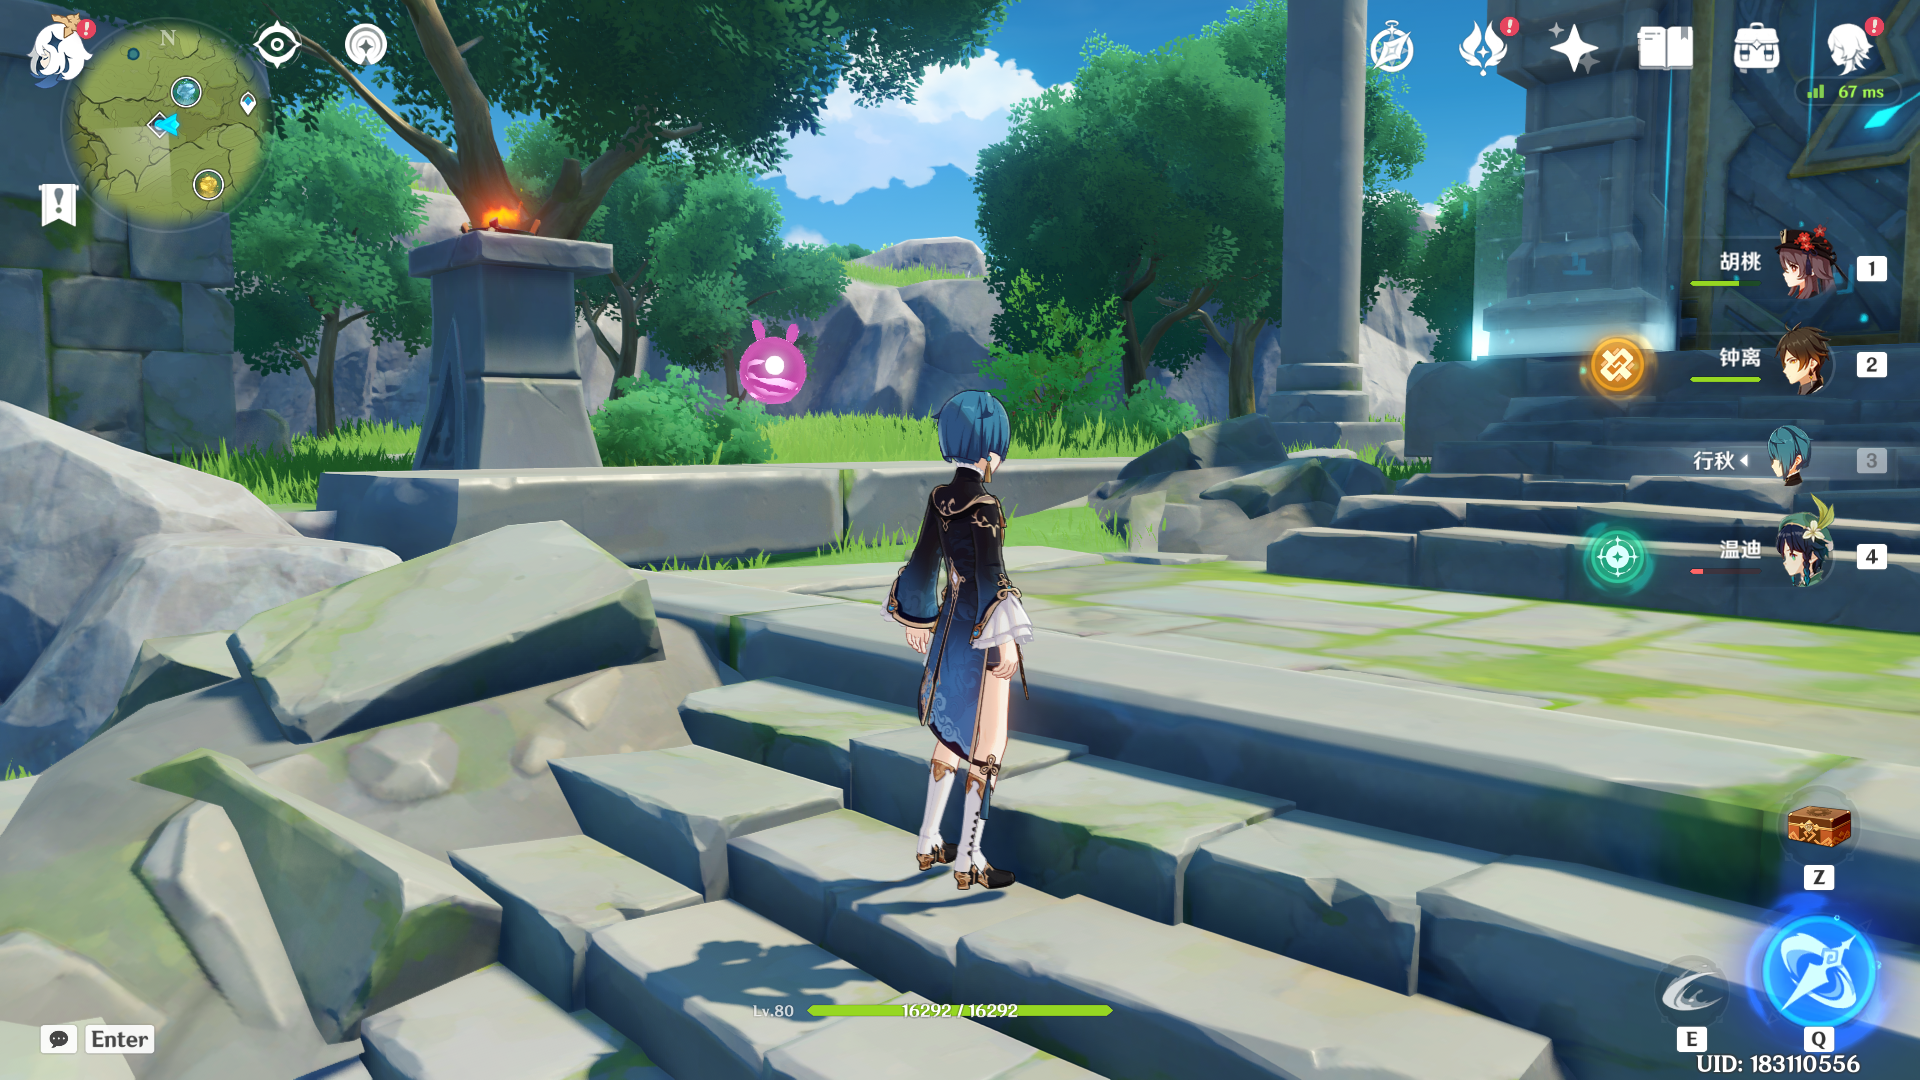character: (827, 371, 1087, 913)
